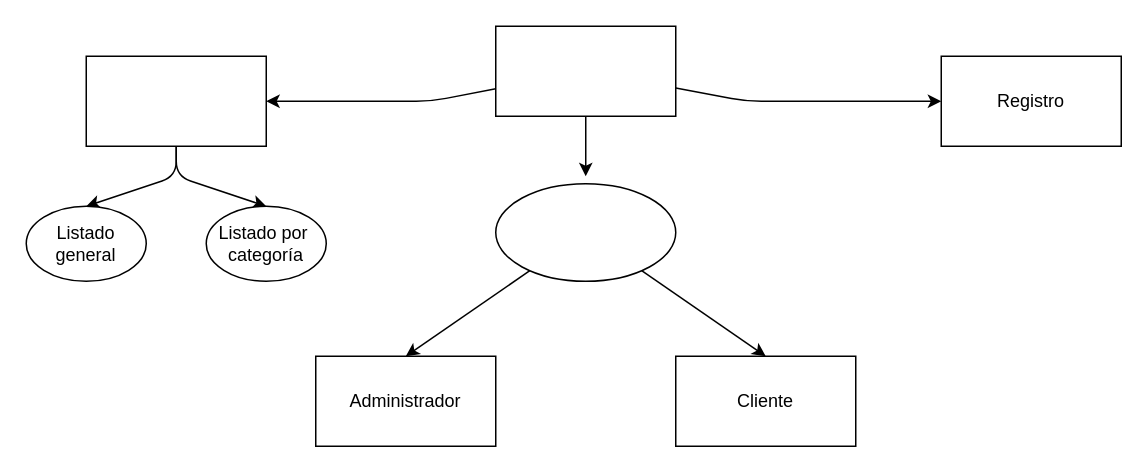
This 1148x473 diagram has some shape labels left out. Each missing label, with the centre of its shape:
"Inicio de sesión" belongs at pixel 585 231.
"Menú Principal" belongs at pixel 585 70.
"Ver películas" belongs at pixel 175 100.
